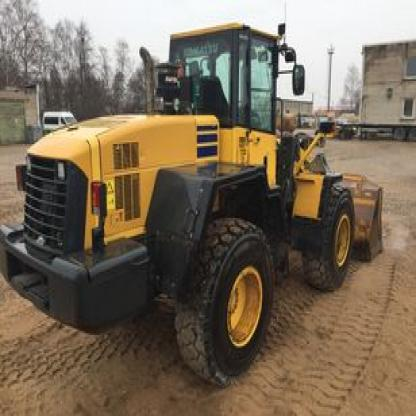bull_dozer/loader/grader: (11, 14, 388, 392)
